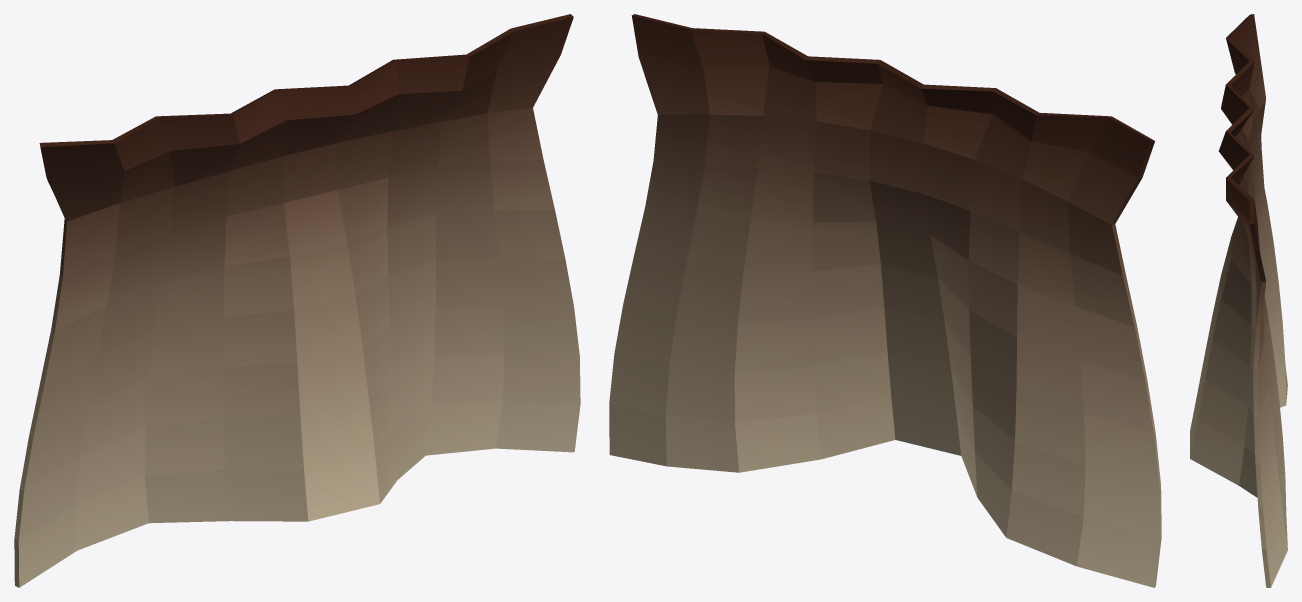
Rendered from Curtain.fbx.
The picture shows the model from 3 angles, left to right: view 1: azimuth 30°, elevation 25°; view 2: azimuth 150°, elevation 25°; view 3: azimuth 270°, elevation 25°; orthographic projection. The views are drawn at different scales.
Visible parts, largest first — view 1: curtain; view 2: curtain; view 3: curtain.
Boxes of the visible parts, x1,y1,x2,y2 form: curtain: (14,14,580,587); curtain: (609,14,1161,587); curtain: (1190,14,1287,587).
Size of the model in its own units: 1.06 by 0.8016 by 0.1973.
